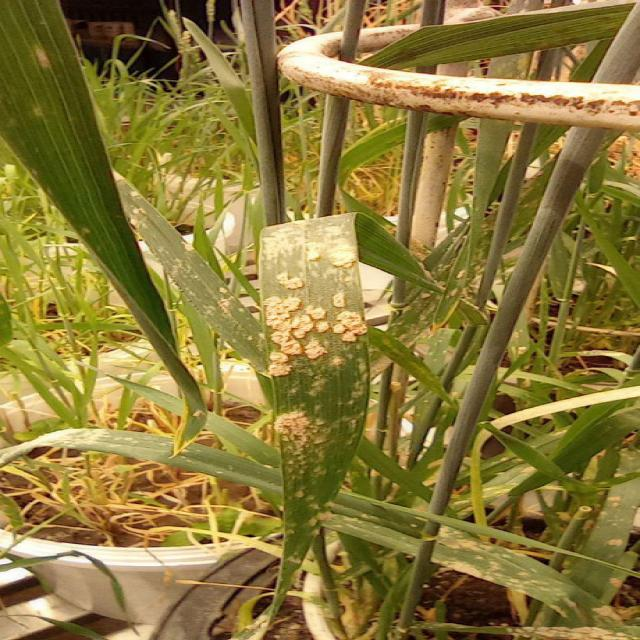wheat-powdery-mildew: (260, 212, 368, 611)
